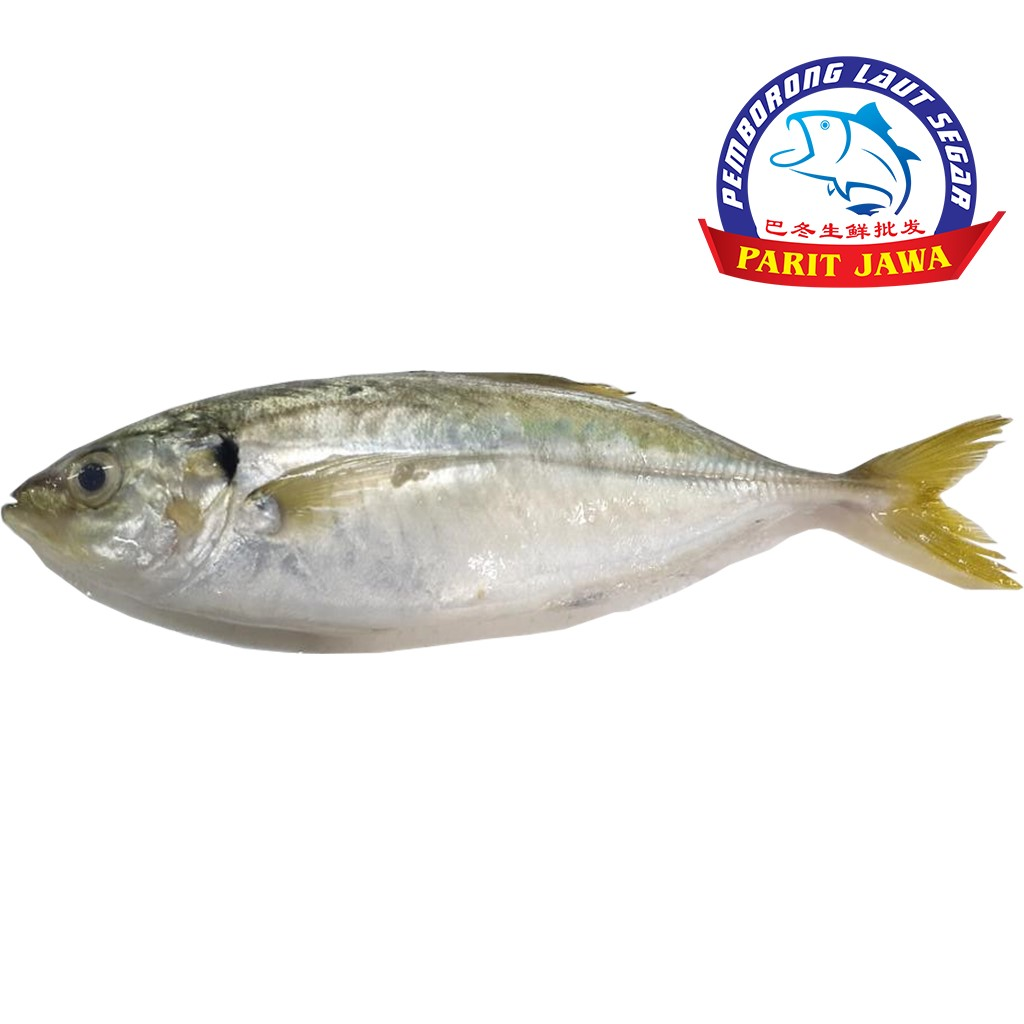Ikan Selar: (8, 329, 1024, 674)
